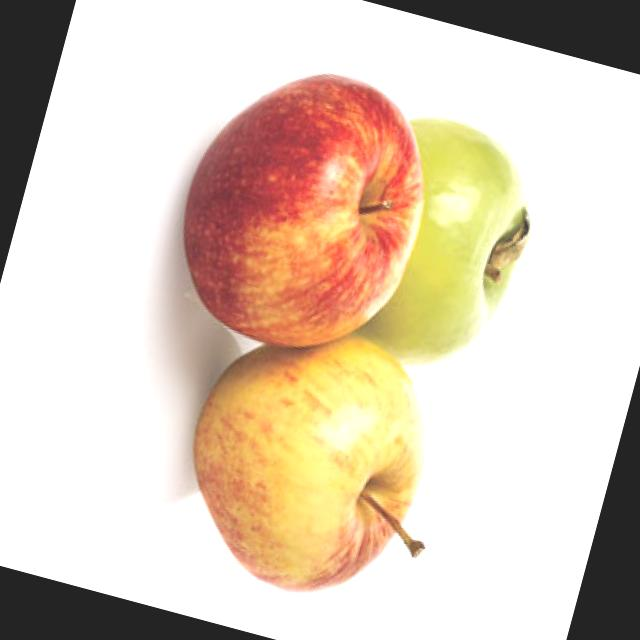alpple: (154, 296, 456, 622), (154, 42, 450, 370)
